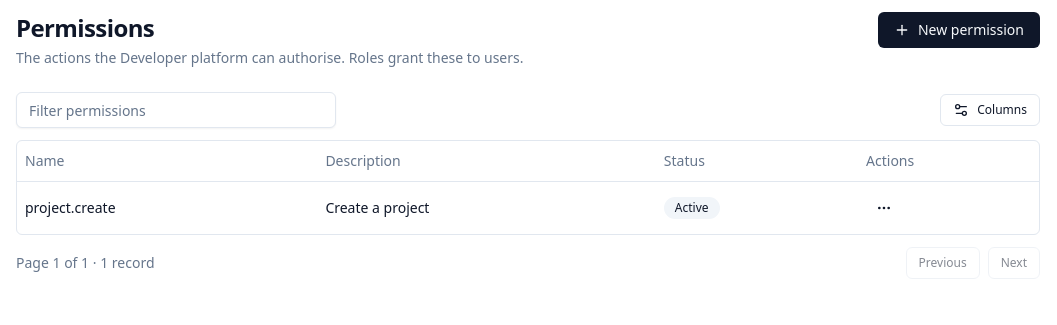
Test case: PermissionsPage — no delete (D-5) › offers no delete control anywhere
The image size is (1057, 325).
Click the button named "actions for project.create" at (884, 208), box [866,190,902,226]
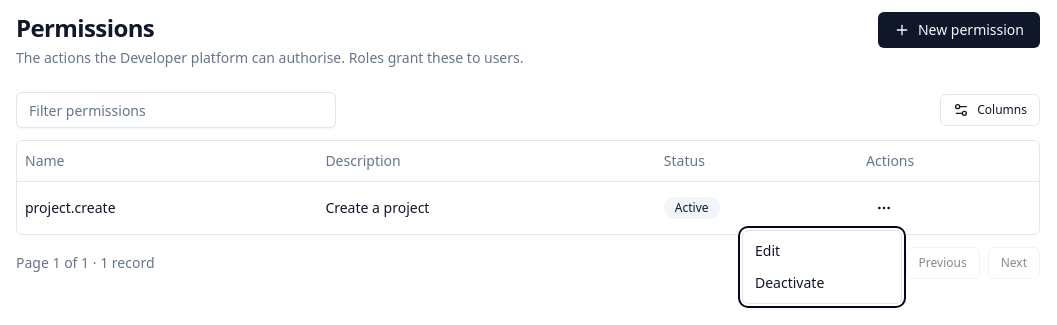
Result: the menu items read "Edit", "Deactivate", in this order at [755,241,780,260]; [755,273,824,292]
